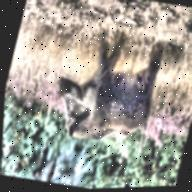boar: (34, 25, 176, 170)
